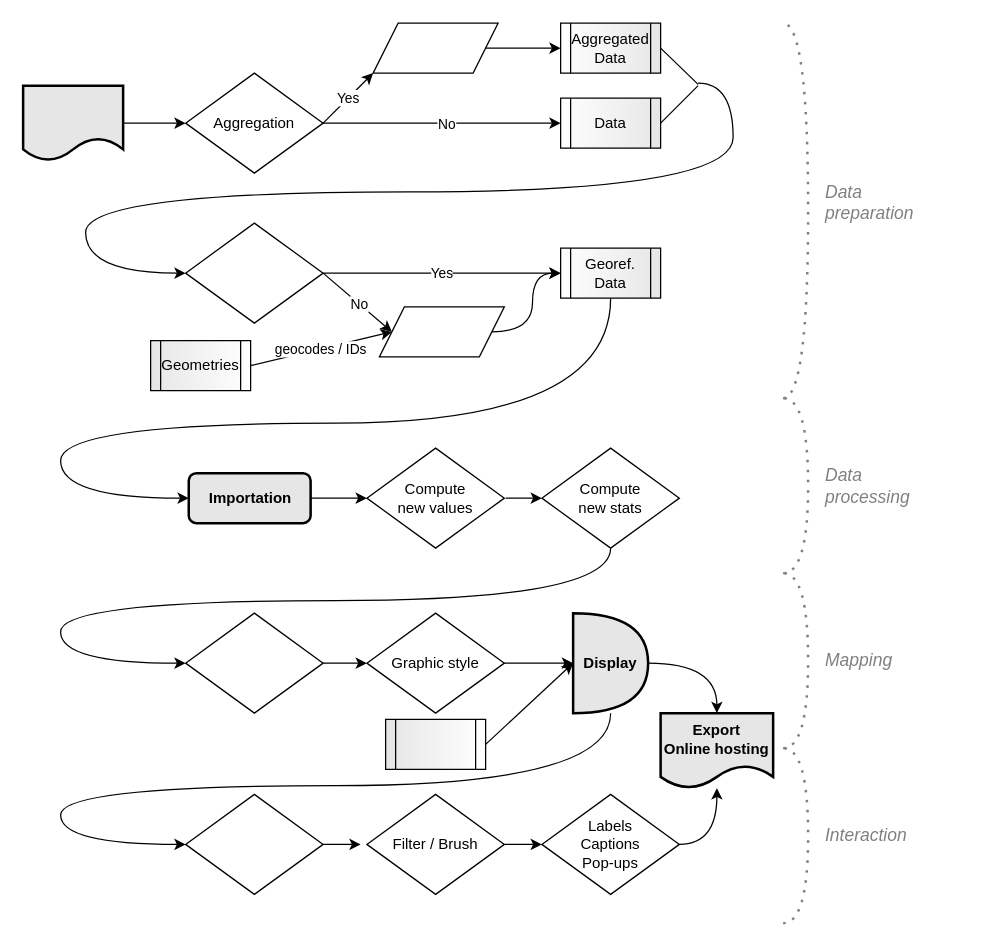
The diagram is 993 pixels wide and 945 high, and some of its shapes have lost their labels. The centre of each missing label's shape, as x and y in pixels:
"Aggregation function" belongs at point (435, 47).
"Base maps" belongs at point (435, 743).
"Geo- referencing" belongs at point (441, 331).
"Geo-positions provided ?" belongs at point (253, 272).
"Map type" belongs at point (253, 662).
"Query" belongs at point (253, 843).
"Source data" belongs at point (72, 122).
